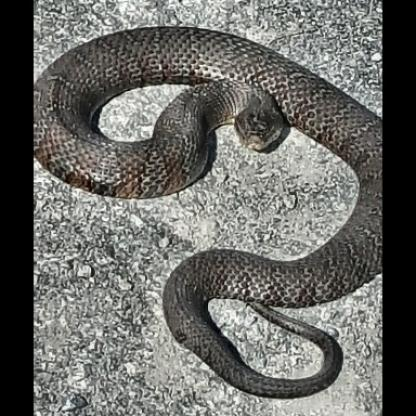Snake: (44, 18, 382, 410), (56, 13, 367, 224)
